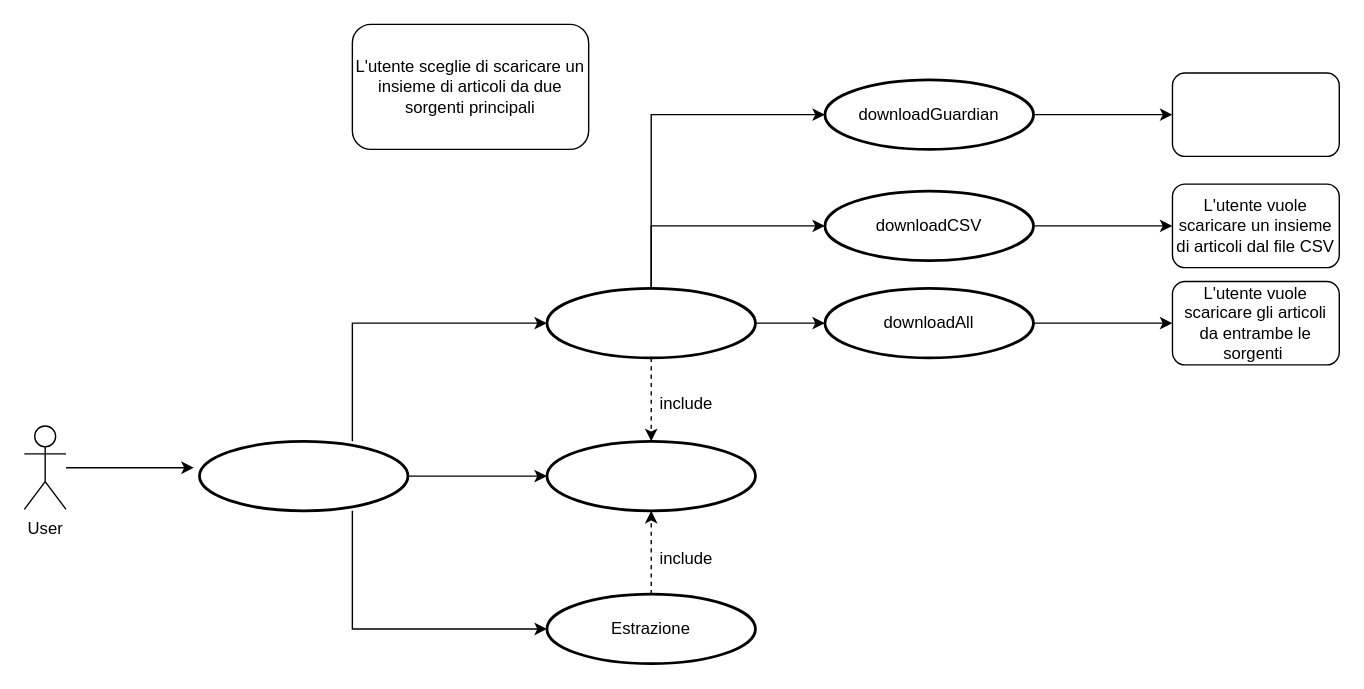
Some shapes in this 1364 by 689 pixel diagram are drawn without their labels. Here are the shapes that lost their labels. From the top down, the centre of each, then its label:
At pixel 1255 114: "L'utente vuole scaricare un insieme di articoli tramite le API del TheGuardian".
At pixel 650 322: "Scaricamento".
At pixel 303 475: "Scelta".
At pixel 650 475: "Scaricamento con estrazione".
